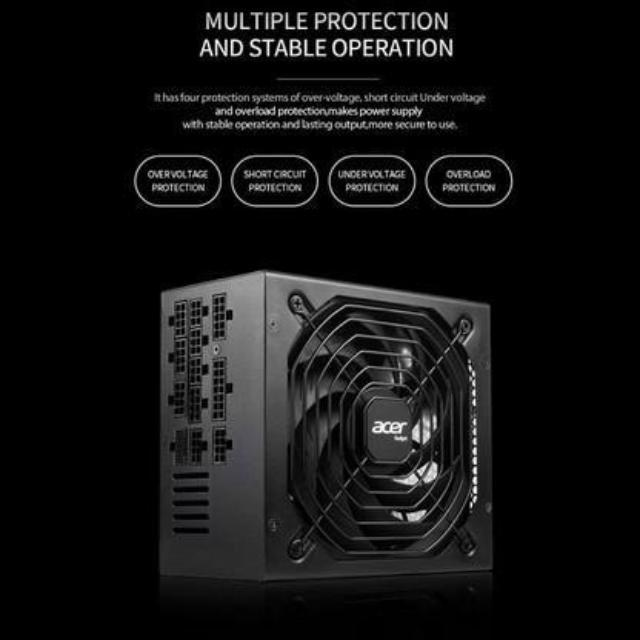PSU: (145, 258, 508, 610)
